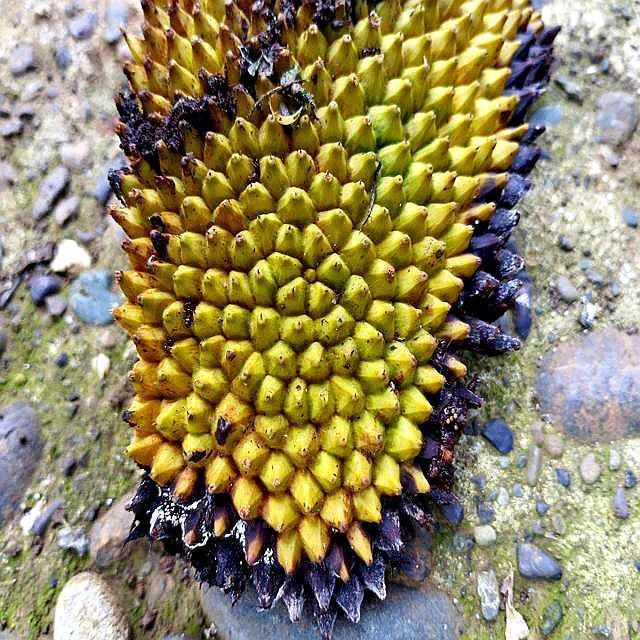Biodegradable: (113, 1, 537, 591)
